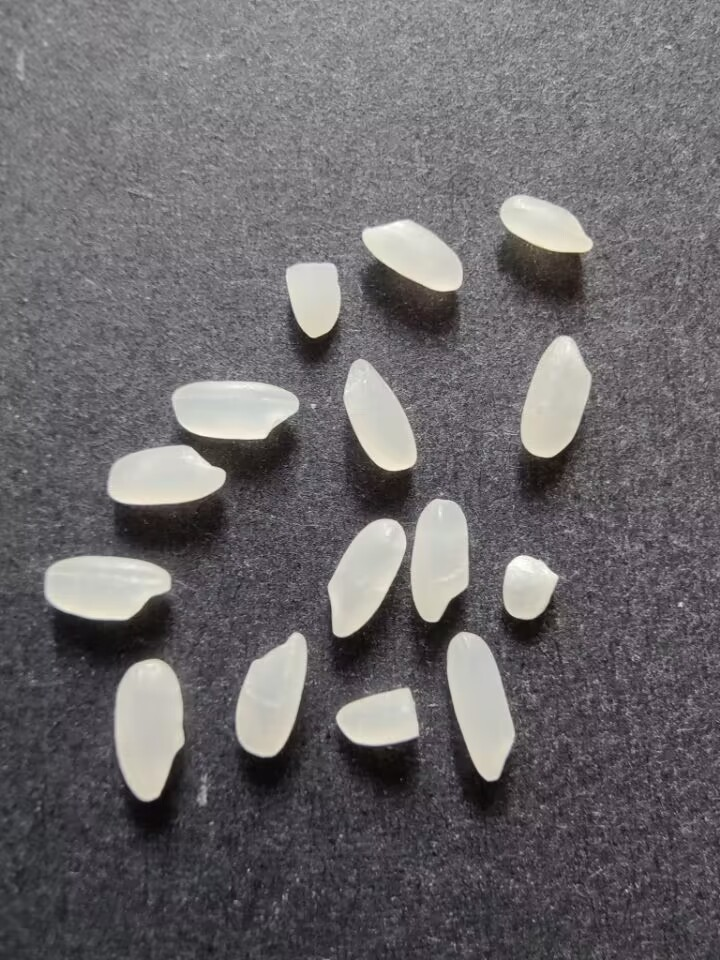broken: (333, 686, 419, 746), (282, 256, 343, 340), (502, 553, 559, 621)
rice: (109, 654, 189, 803), (321, 513, 407, 641), (232, 627, 311, 762), (446, 631, 516, 782), (35, 552, 175, 623), (517, 333, 594, 462), (339, 354, 419, 475), (165, 375, 302, 444), (408, 493, 477, 625), (355, 214, 464, 296), (105, 443, 230, 508), (494, 191, 595, 258)
